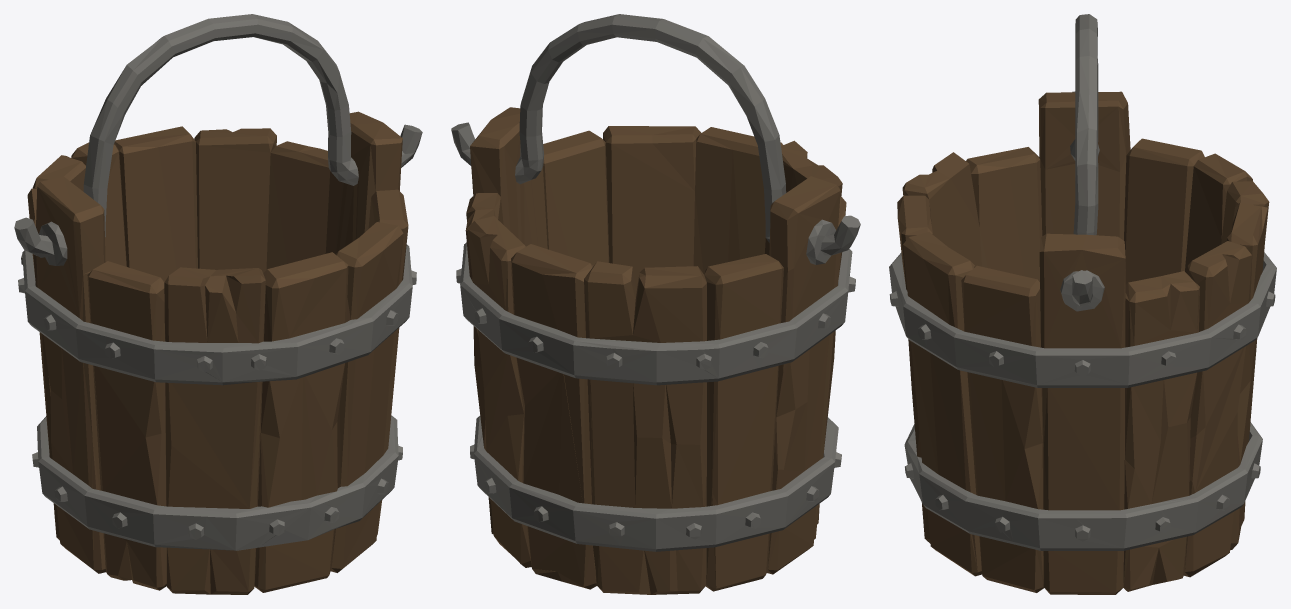
The model's file is EmptyWoodenBucket.fbx.
The picture shows the model from 3 angles, left to right: view 1: azimuth 30°, elevation 25°; view 2: azimuth 150°, elevation 25°; view 3: azimuth 270°, elevation 25°; orthographic projection. The views are drawn at different scales.
Parts seen in each view (by area): view 1: EmptyWoodenBucket; view 2: EmptyWoodenBucket; view 3: EmptyWoodenBucket.
Boxes of the visible parts, x1,y1,x2,y2 form: EmptyWoodenBucket: [14, 14, 422, 594]; EmptyWoodenBucket: [451, 14, 860, 594]; EmptyWoodenBucket: [889, 14, 1276, 594].
Bounding box in the file's own units: 0.4493 × 0.3812 × 0.5398.
